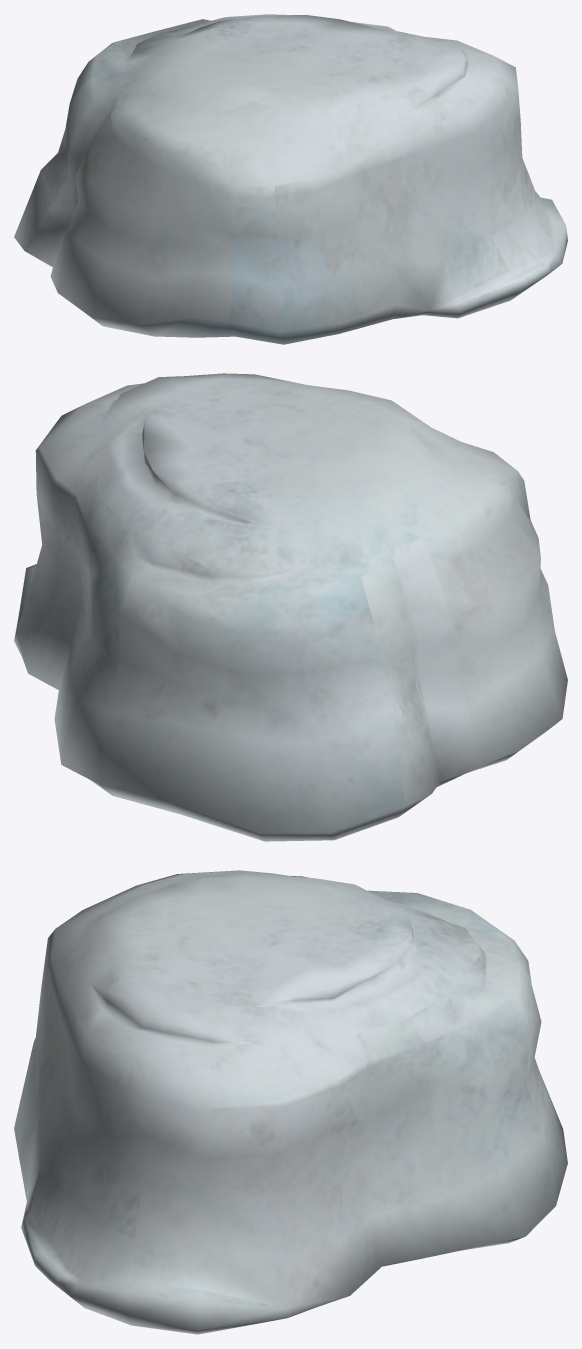
File: P_RockDesert_Shelf03.obj
3 views of the same model, one above another, from view 1: azimuth 30°, elevation 25°; view 2: azimuth 150°, elevation 25°; view 3: azimuth 270°, elevation 25° (orthographic). The views are drawn at different scales.
Bounding box in the file's own units: 22.6 × 10.7 × 19.14.
